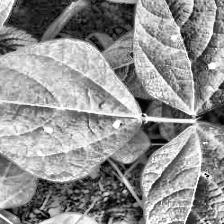Bean Rust: (0, 38, 144, 180), (131, 0, 224, 113), (140, 120, 224, 224)
